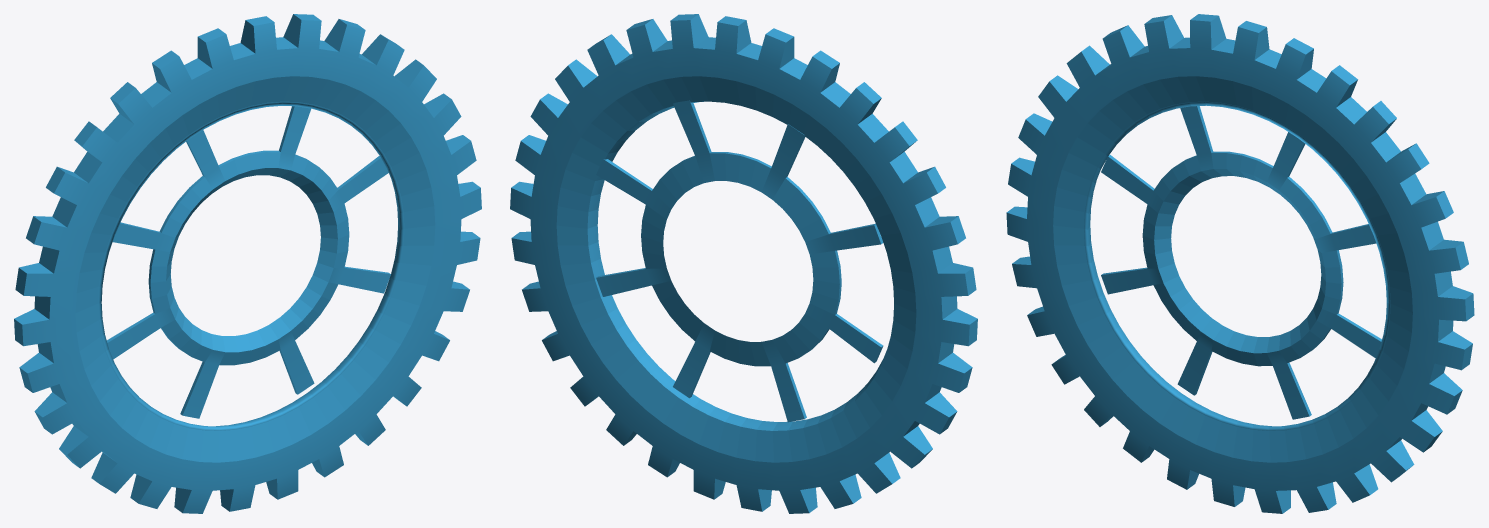
File: Gear_Diam_04_Size_4.fbx
The picture shows the model from 3 angles, left to right: view 1: azimuth 30°, elevation 25°; view 2: azimuth 150°, elevation 25°; view 3: azimuth 330°, elevation 25°; orthographic projection.
Parts seen in each view (by area): view 1: Gear_Diam_04_Size_4; view 2: Gear_Diam_04_Size_4; view 3: Gear_Diam_04_Size_4.
Part boxes in pixels (box(x1,y1,x2,y2)): Gear_Diam_04_Size_4: box(14, 14, 481, 513); Gear_Diam_04_Size_4: box(510, 14, 977, 513); Gear_Diam_04_Size_4: box(1006, 14, 1474, 513).
Size of the model in its own units: 37.9 by 37.9 by 2.14.
